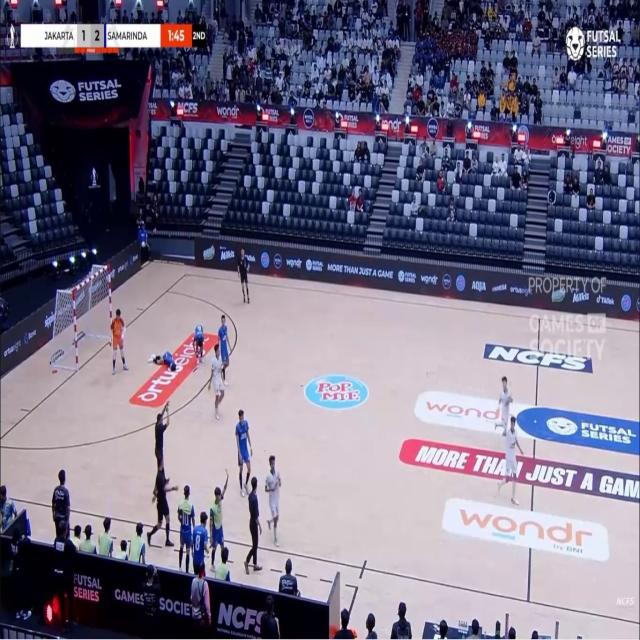keeper: (112, 309, 124, 372)
